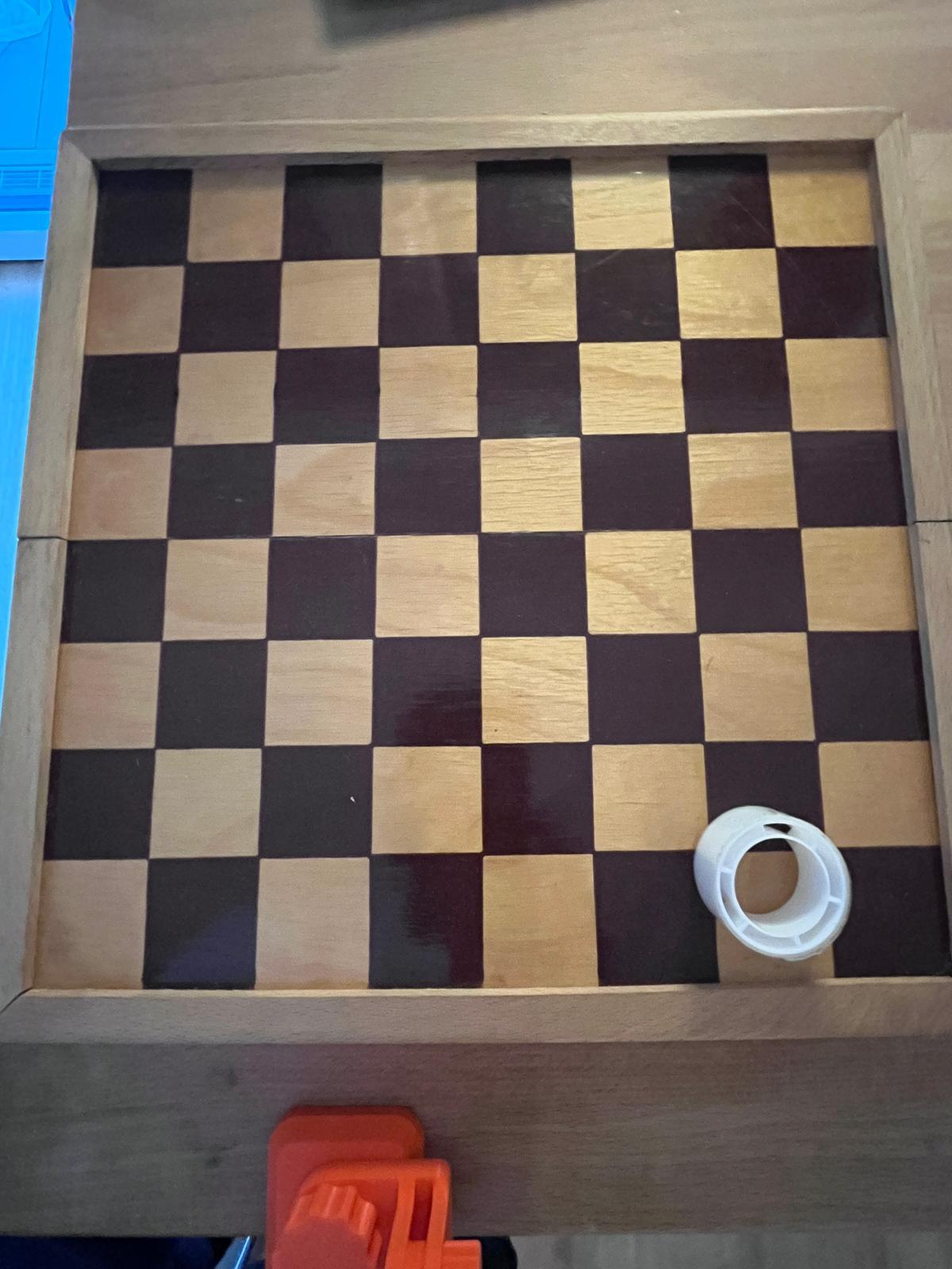tape: (692, 801, 850, 968)
